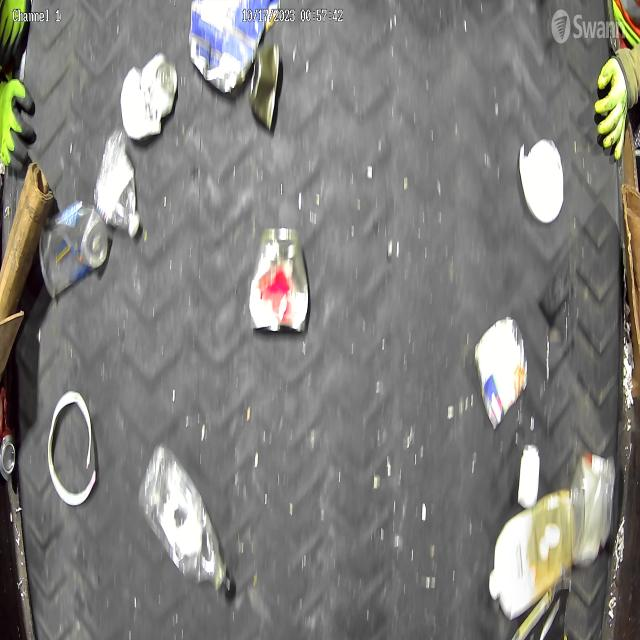can: (250, 226, 310, 332), (249, 38, 281, 128), (0, 388, 16, 482)
milk_jug: (490, 490, 574, 618)
plastic_bottle: (141, 444, 233, 596), (95, 126, 143, 238)
